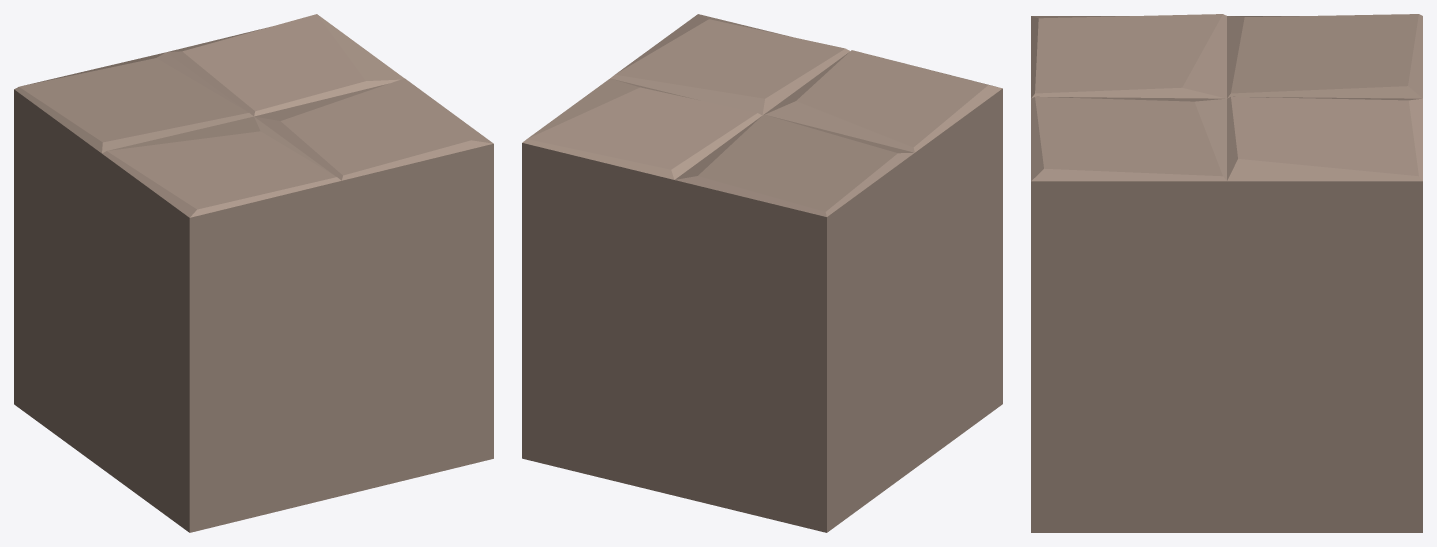
The model's file is Floor_1.fbx.
3 views of the same model, side by side, from view 1: azimuth 30°, elevation 25°; view 2: azimuth 150°, elevation 25°; view 3: azimuth 270°, elevation 25° (orthographic). The views are drawn at different scales.
Visible parts, largest first — view 1: Floor_1; view 2: Floor_1; view 3: Floor_1.
Part boxes in pixels (x1,y1,x2,y2): Floor_1: (14, 14, 493, 532); Floor_1: (522, 14, 1002, 532); Floor_1: (1031, 14, 1422, 532).
Size of the model in its own units: 1 by 1 by 1.
